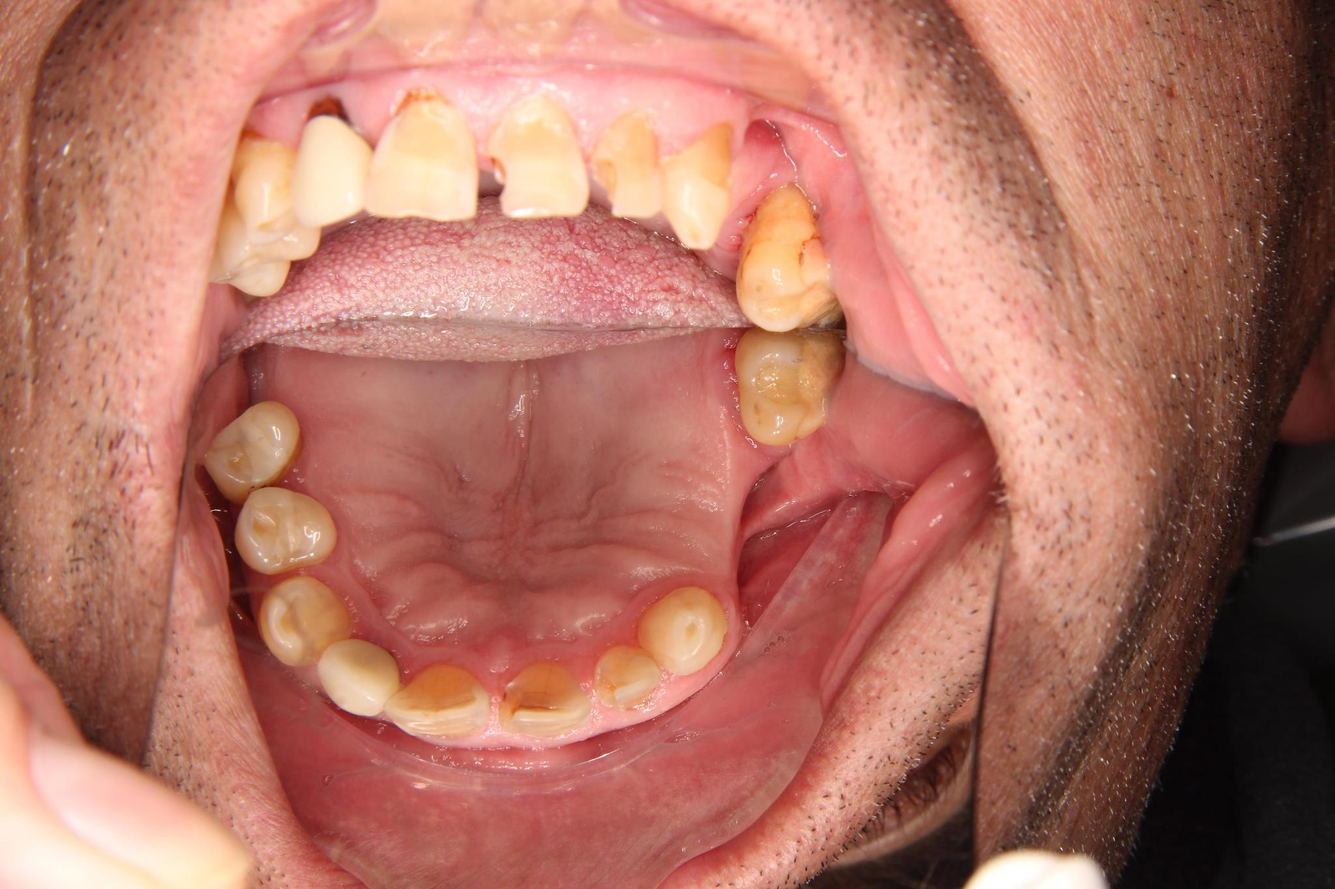Fractured Teeth: (484, 91, 589, 222), (592, 107, 660, 224)
Spaced: (575, 658, 609, 721), (487, 671, 504, 734)
